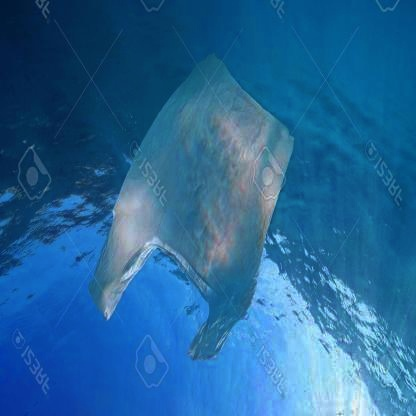pbag: (88, 51, 296, 362)
